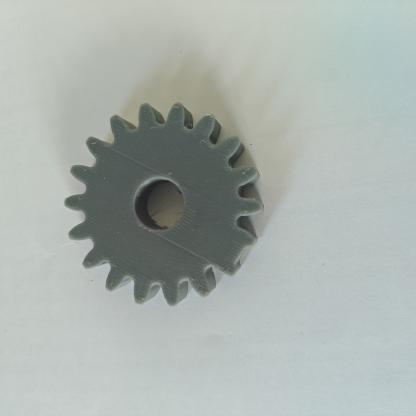defect: (207, 220, 291, 286)
gear: (54, 95, 297, 325)
